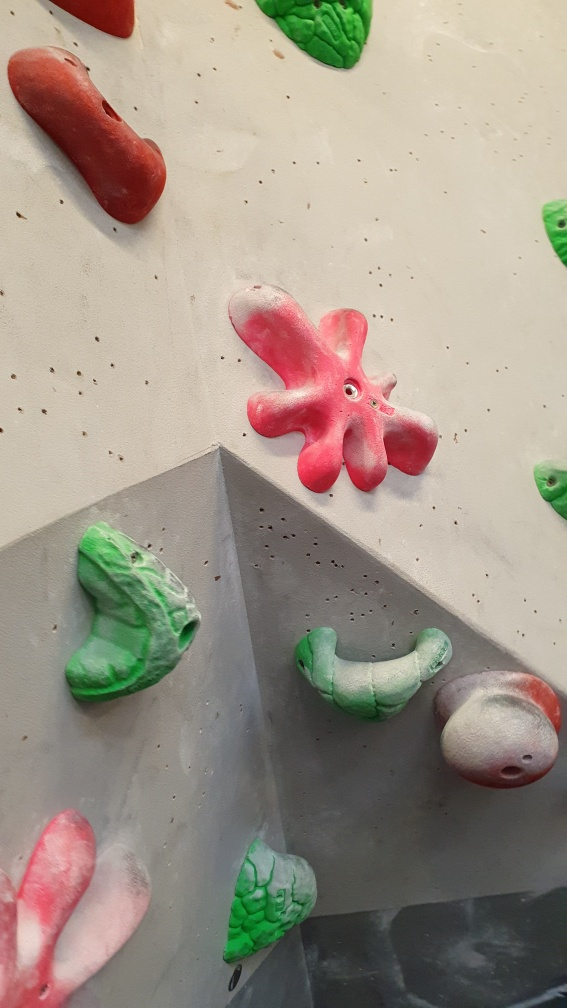Hand Start: (221, 963, 252, 995)
Jug: (291, 617, 458, 730), (217, 826, 316, 967)
Octopus Pinch: (224, 274, 444, 499), (1, 797, 158, 1007)
Sloper: (433, 666, 566, 795)
